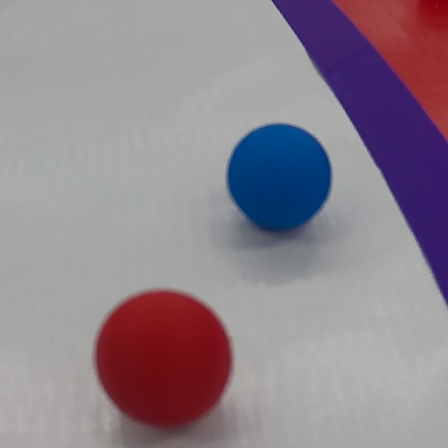blue: (219, 120, 337, 245)
red: (91, 285, 233, 427)
red_aim: (268, 4, 448, 309)
